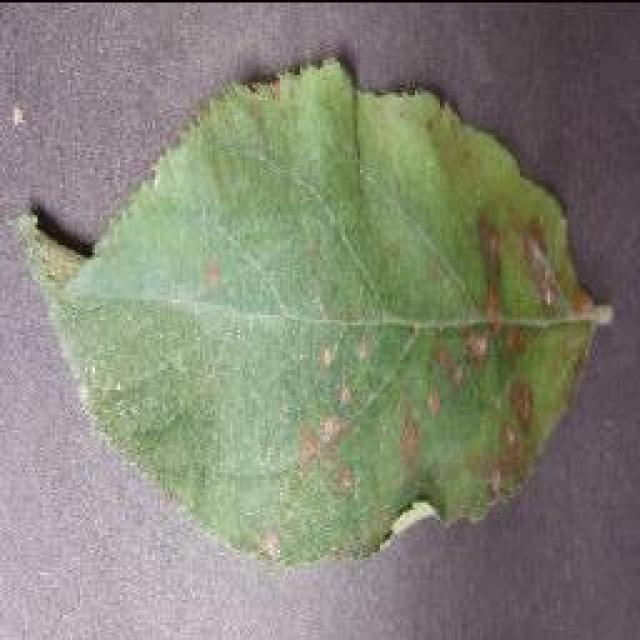Apple___Cedar_apple_rust: (13, 51, 616, 570)
